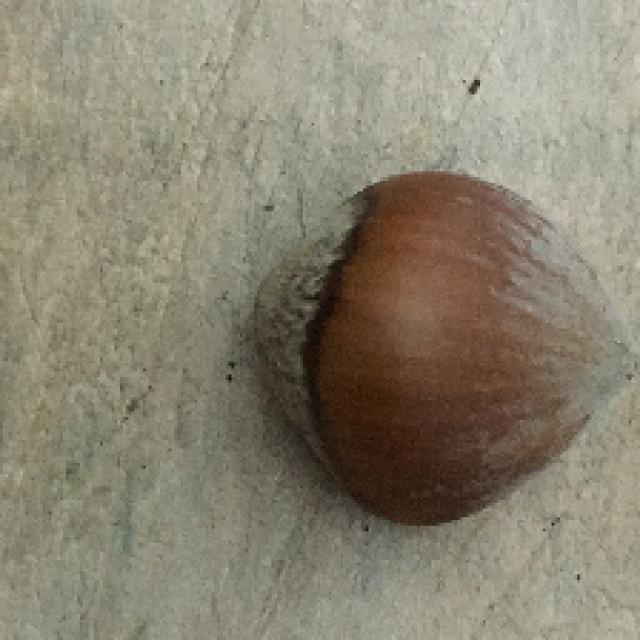qualityHazelnut: (242, 161, 639, 517)
